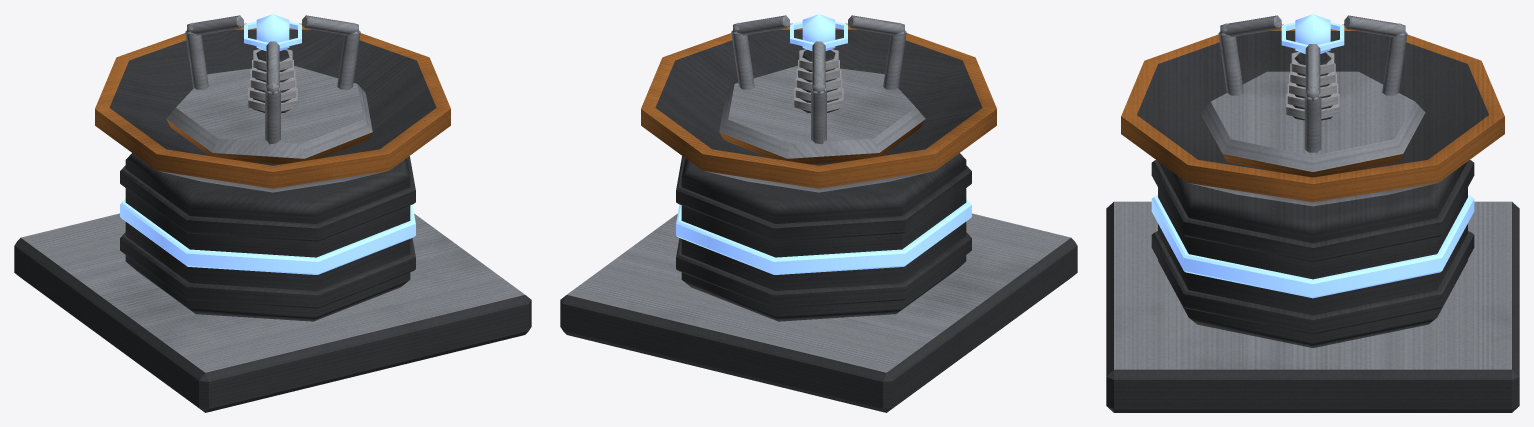
File: R4X_EMPTrapDeployer_LOD1.glb
The picture shows the model from 3 angles, left to right: view 1: azimuth 30°, elevation 25°; view 2: azimuth 150°, elevation 25°; view 3: azimuth 270°, elevation 25°; orthographic projection. The views are drawn at different scales.
Visible parts, largest first — view 1: R4X_EMPTrapDeployer_LOD1; view 2: R4X_EMPTrapDeployer_LOD1; view 3: R4X_EMPTrapDeployer_LOD1.
Part boxes in pixels (box(x1,y1,x2,y2)): R4X_EMPTrapDeployer_LOD1: box(14, 14, 531, 412); R4X_EMPTrapDeployer_LOD1: box(560, 14, 1077, 412); R4X_EMPTrapDeployer_LOD1: box(1106, 14, 1519, 412).
Size of the model in its own units: 0.52 by 0.437 by 0.52.
5 materials, 4 textured.
